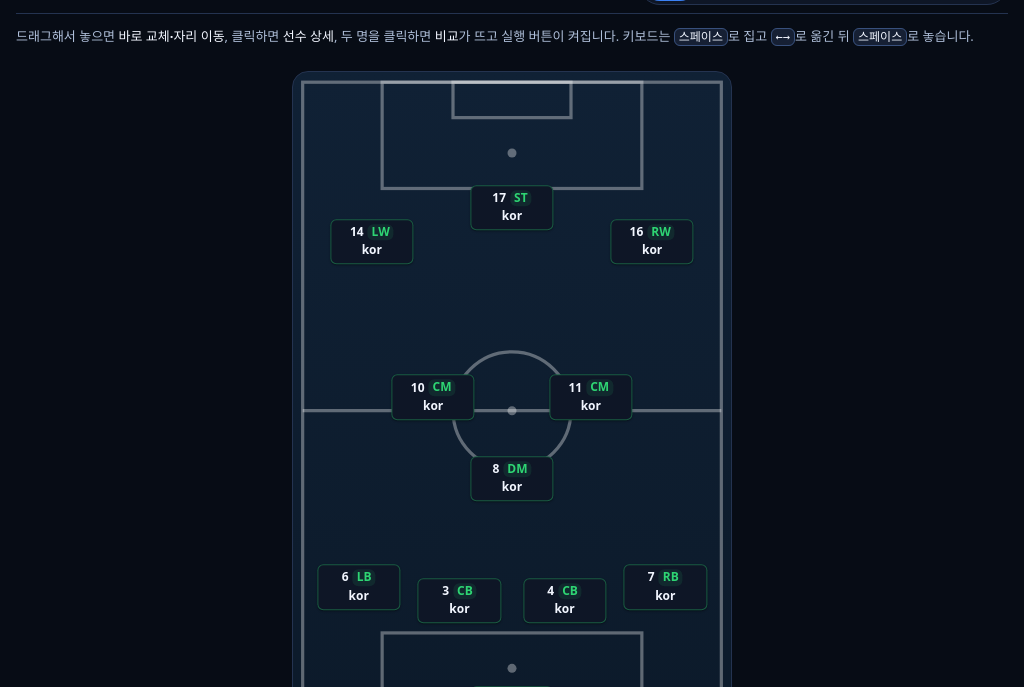
Test: LineupScreen 스모크 › 클릭 두 번은 교체가 아니라 비교를 연다
Click the button with class "lu-chip" showing "6 LB kor" at (359, 587), box [317, 564, 400, 610]
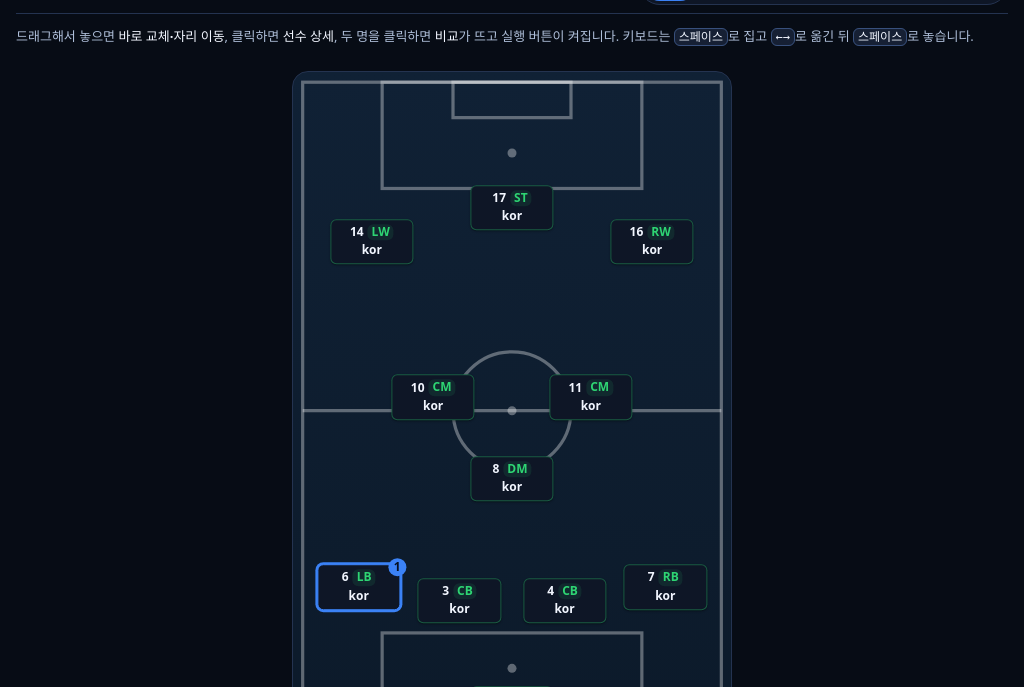
Click the button with class "lu-chip" showing "17 ST kor" at (512, 208), box [470, 185, 554, 230]
(page scrolled)
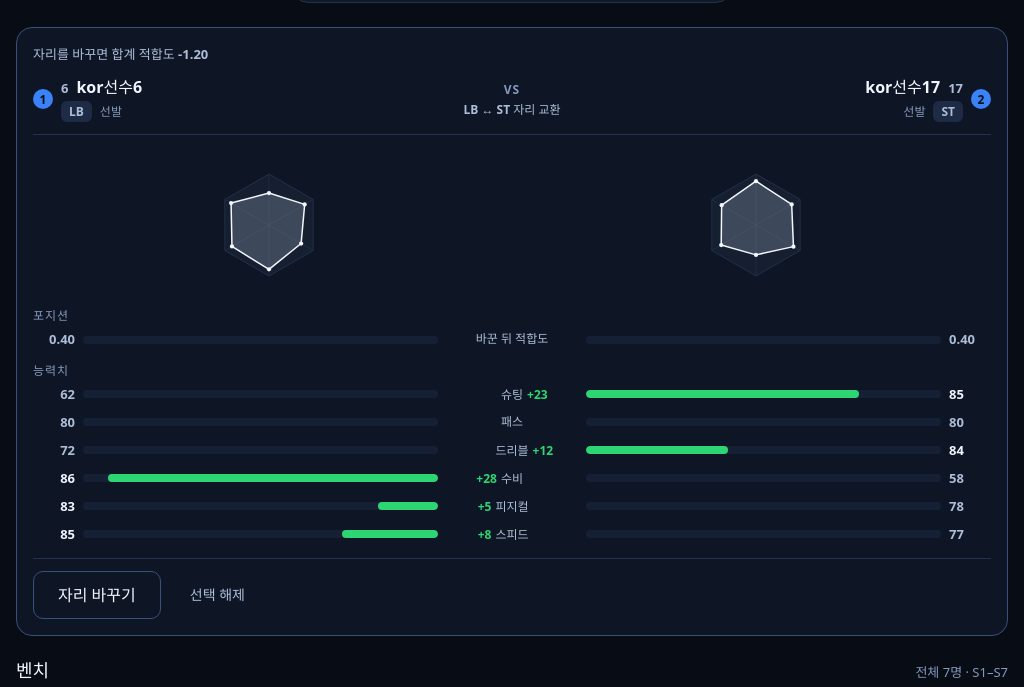
Expected: the element with class "cmp" is shown
